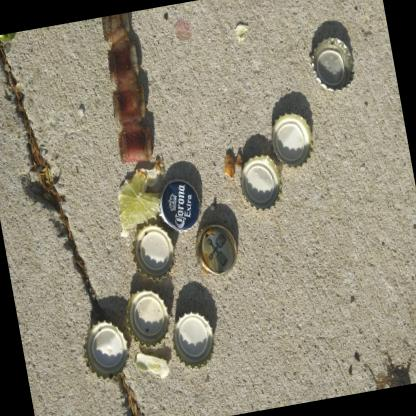Metal: (82, 318, 128, 380), (124, 288, 169, 346), (130, 222, 174, 280), (170, 310, 214, 368), (238, 154, 281, 211), (270, 111, 312, 168), (156, 176, 199, 231), (310, 36, 353, 90), (193, 221, 236, 275)
